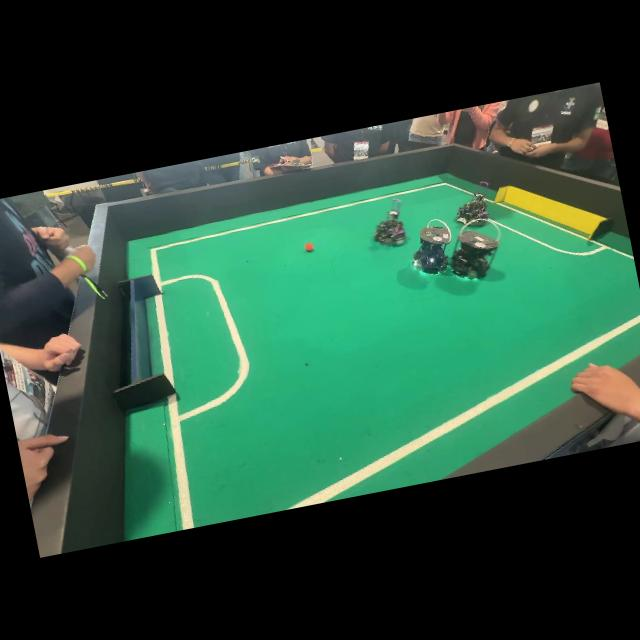ball: (305, 242, 314, 252)
goal: (114, 275, 176, 410), (496, 186, 611, 239)
robot: (449, 219, 501, 279), (412, 219, 452, 274), (374, 199, 406, 245), (457, 190, 488, 224)
